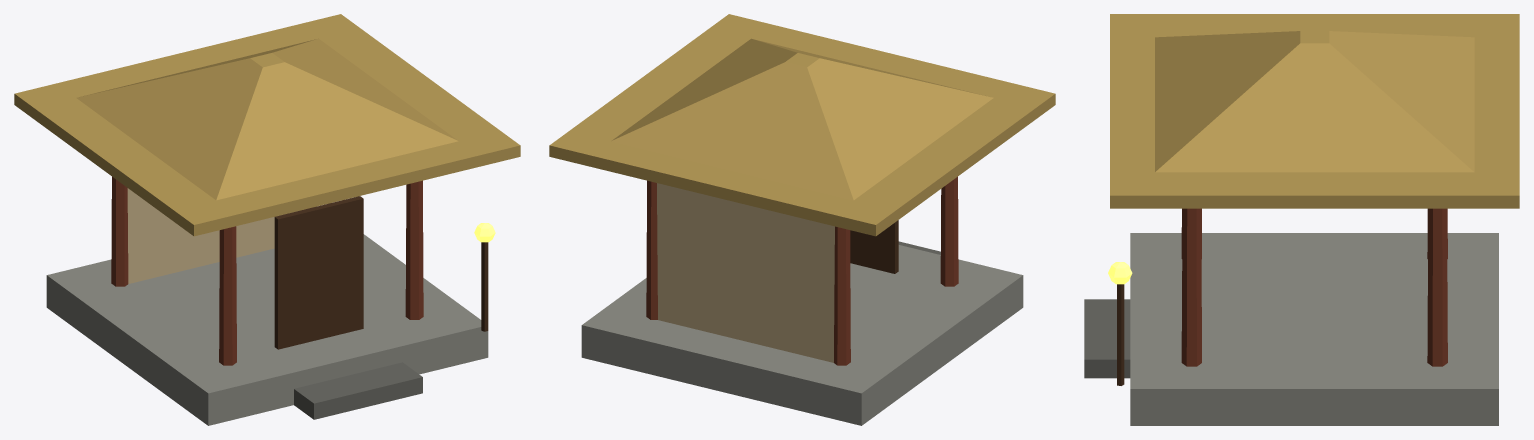
The model's file is prop_small_shrine.glb.
3 renders of one model, left to right at view 1: azimuth 30°, elevation 25°; view 2: azimuth 150°, elevation 25°; view 3: azimuth 270°, elevation 25°, orthographic. The views are drawn at different scales.
Parts seen in each view (by area): view 1: prop_small_shrine; view 2: prop_small_shrine; view 3: prop_small_shrine.
Boxes of the visible parts, x1,y1,x2,y2 form: prop_small_shrine: (14, 14, 520, 425); prop_small_shrine: (549, 14, 1055, 425); prop_small_shrine: (1084, 14, 1519, 425).
Size of the model in its own units: 4.2 by 3.35 by 4.25.
